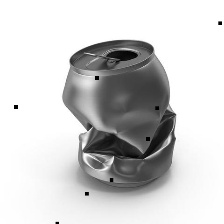can: (57, 38, 181, 191)
